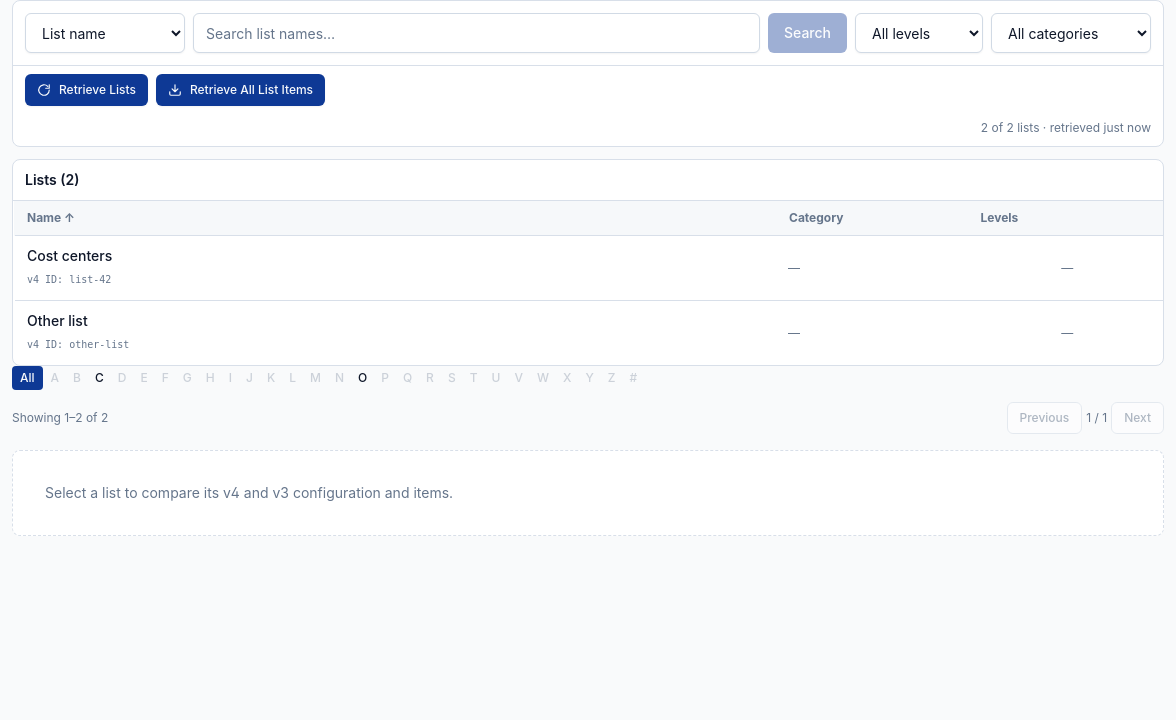
Test: ListsView table actions › finds a grouped list by either version ID: legacy-42
Expected: the button "Other list" is shown, x1=27 y1=311 x2=88 y2=331
Select "List ID (v3 / v4)" in the dropdown named "Search lists by". click: (105, 33)
box: x1=25 y1=13 x2=185 y2=53
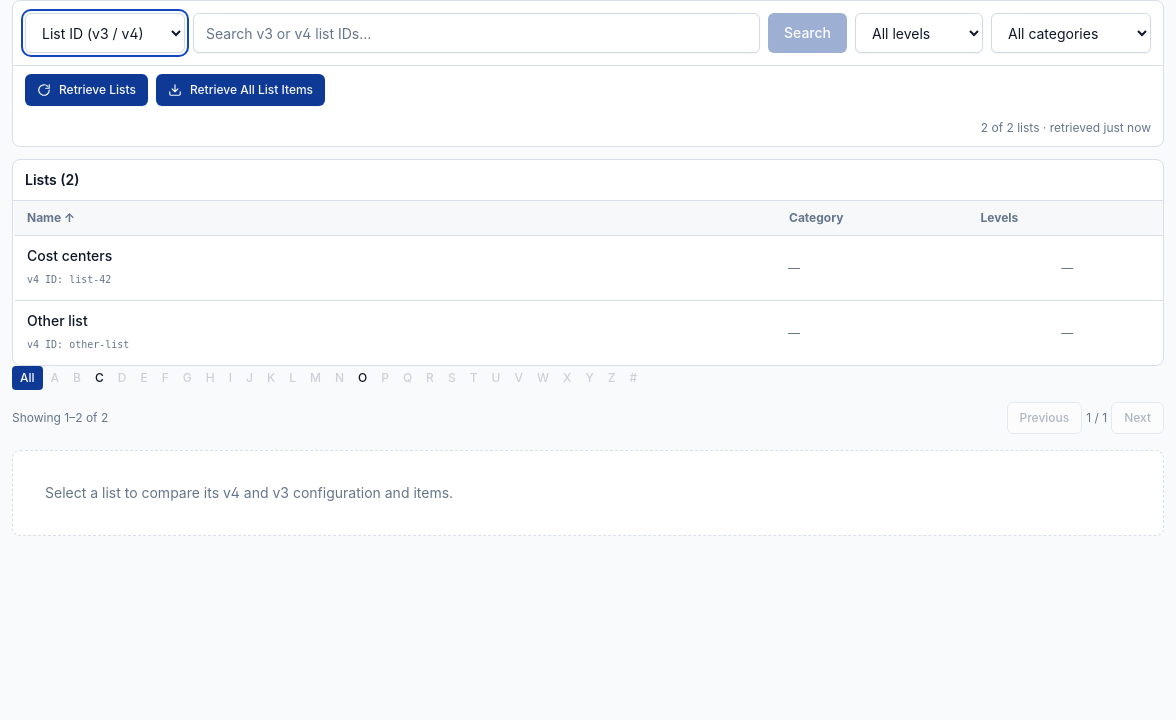
Type "legacy-42" into the field named "Search lists". click: (476, 33)
box: x1=193 y1=13 x2=760 y2=53
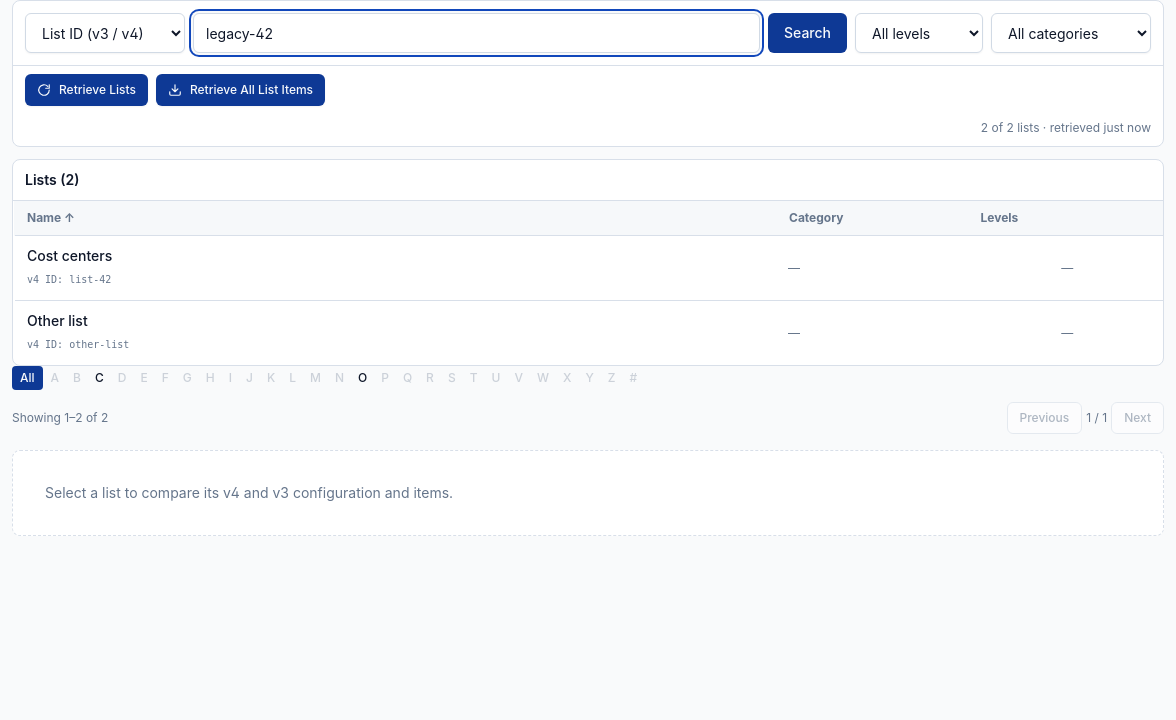
Click the button "Search". click: (808, 33)
box: x1=768 y1=13 x2=847 y2=53
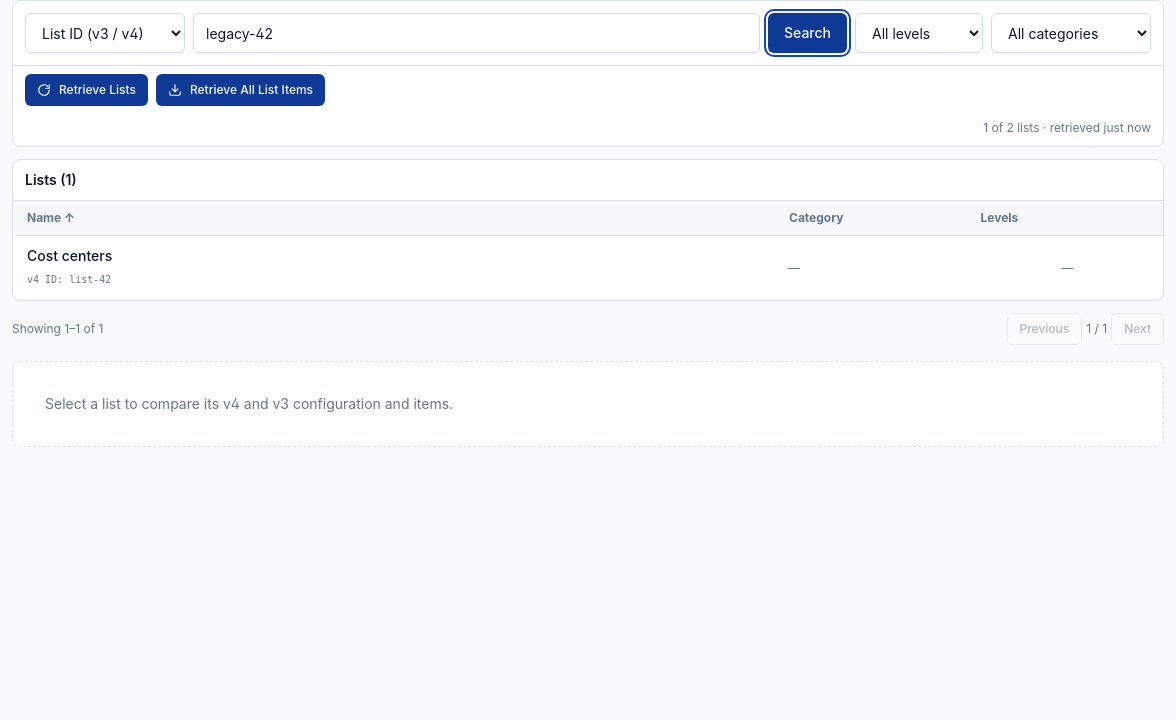
Expected: the text "v4 ID: list-42" is shown, x1=27 y1=274 x2=111 y2=285
Result: the button "Other list" is gone
